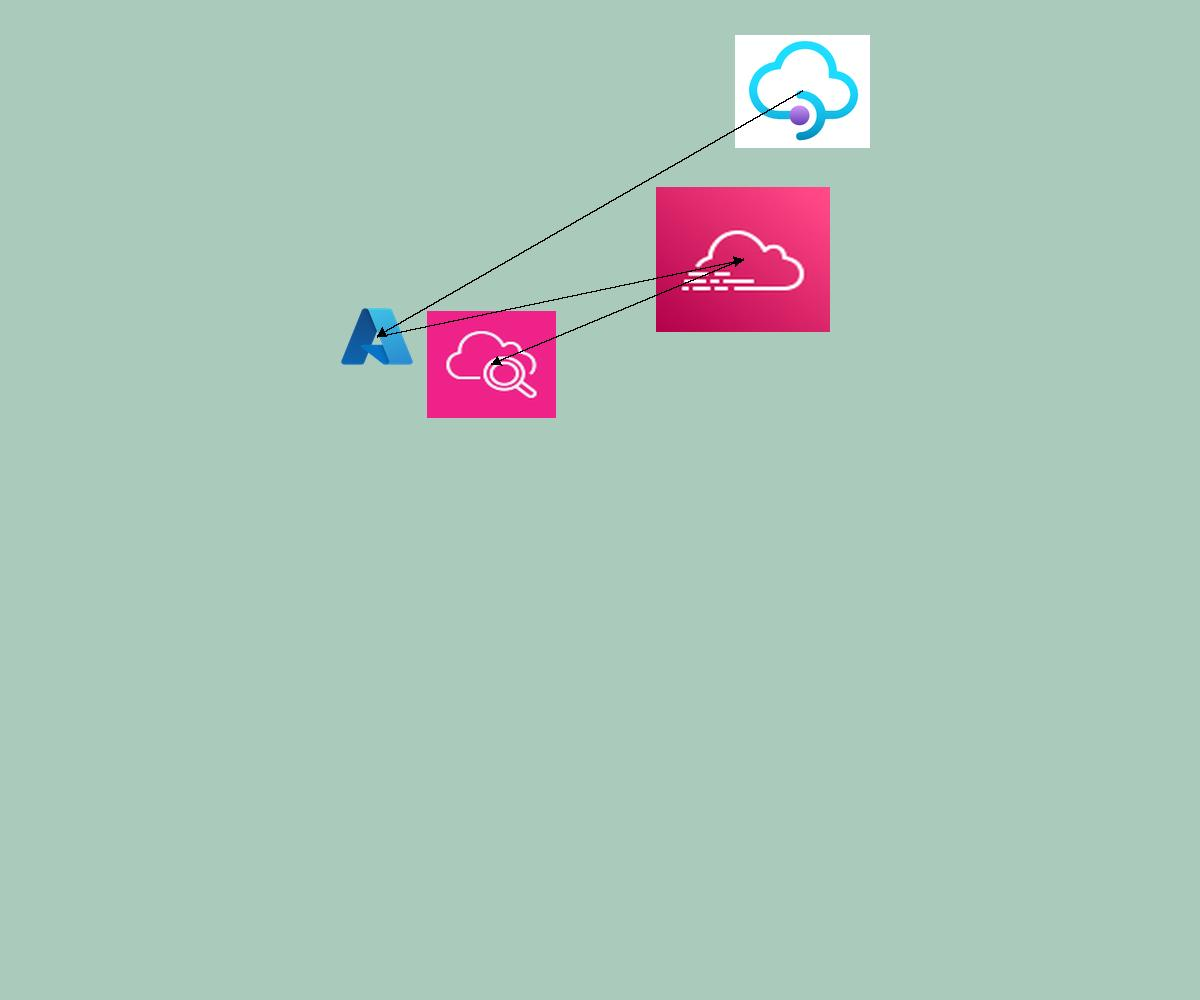AWS-CloudTrail: (656, 187, 830, 332)
AWS-CloudWatch: (427, 311, 556, 418)
Azure_api_gateway: (735, 35, 870, 148)
Azure_services: (338, 304, 416, 369)
